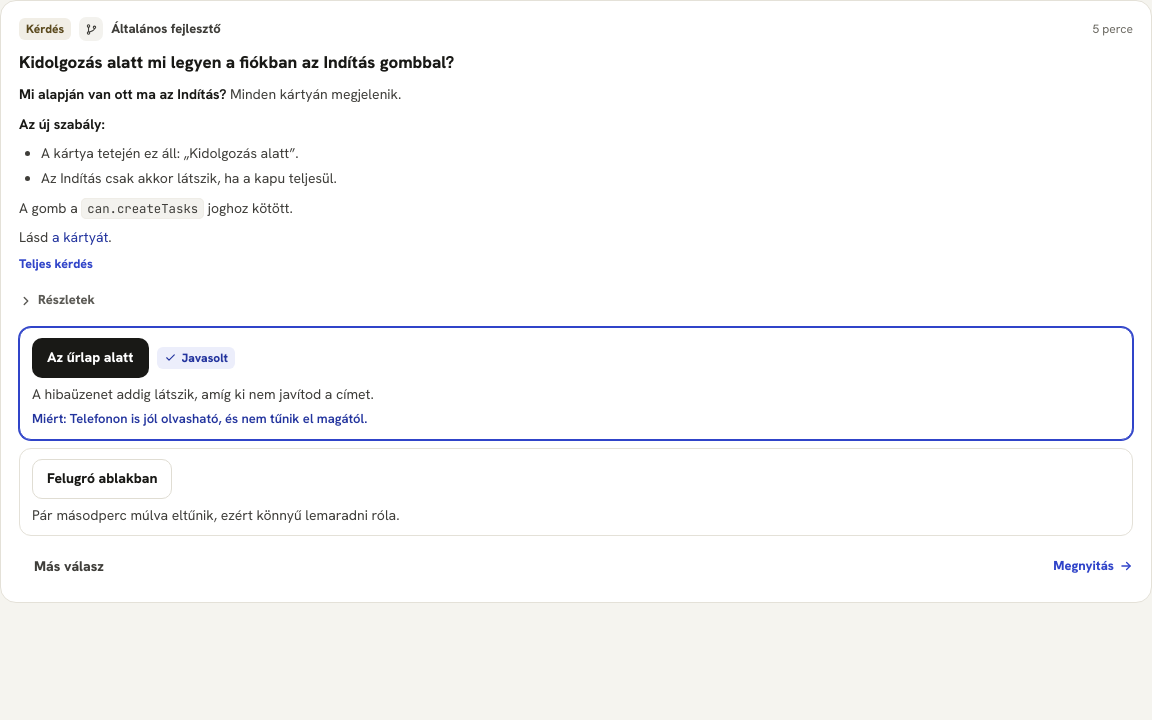
Test: InboxCard: a question that explains itself › a long question written in markdown › opens the folded body when focus moves into it
The width and height of the screenshot is (1152, 720).
Focus the link "a kártyát" at (80, 237), box x1=52 y1=228 x2=108 y2=246
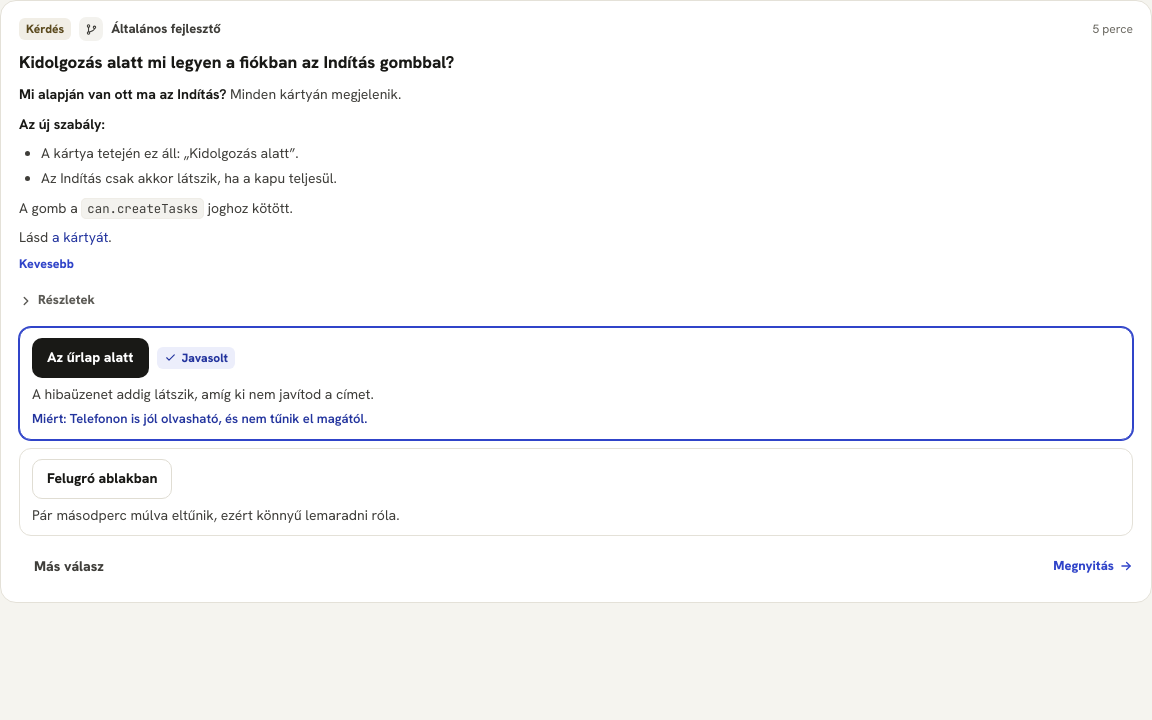
Now the button "Kevesebb" is shown, box x1=19 y1=253 x2=74 y2=275
